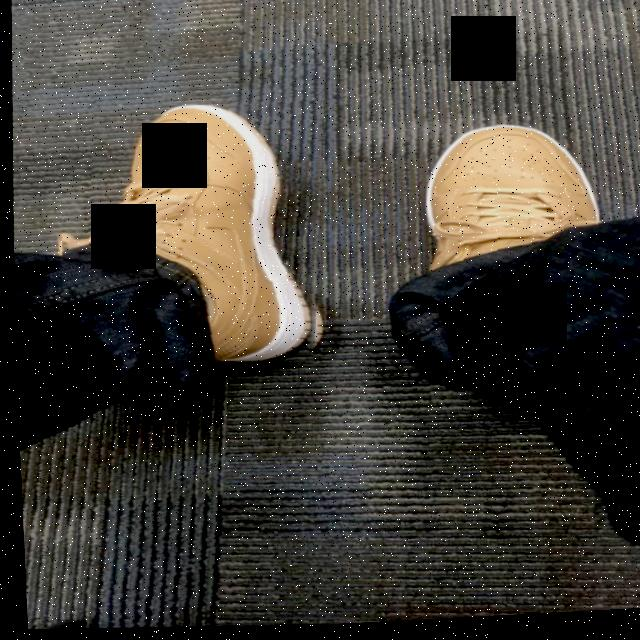shoe: (49, 87, 334, 382), (400, 110, 640, 407)
